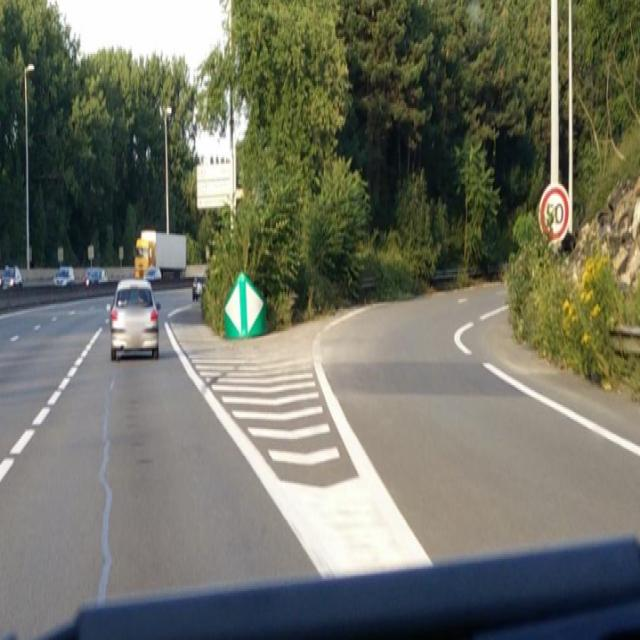speed_50: (540, 185, 570, 239)
